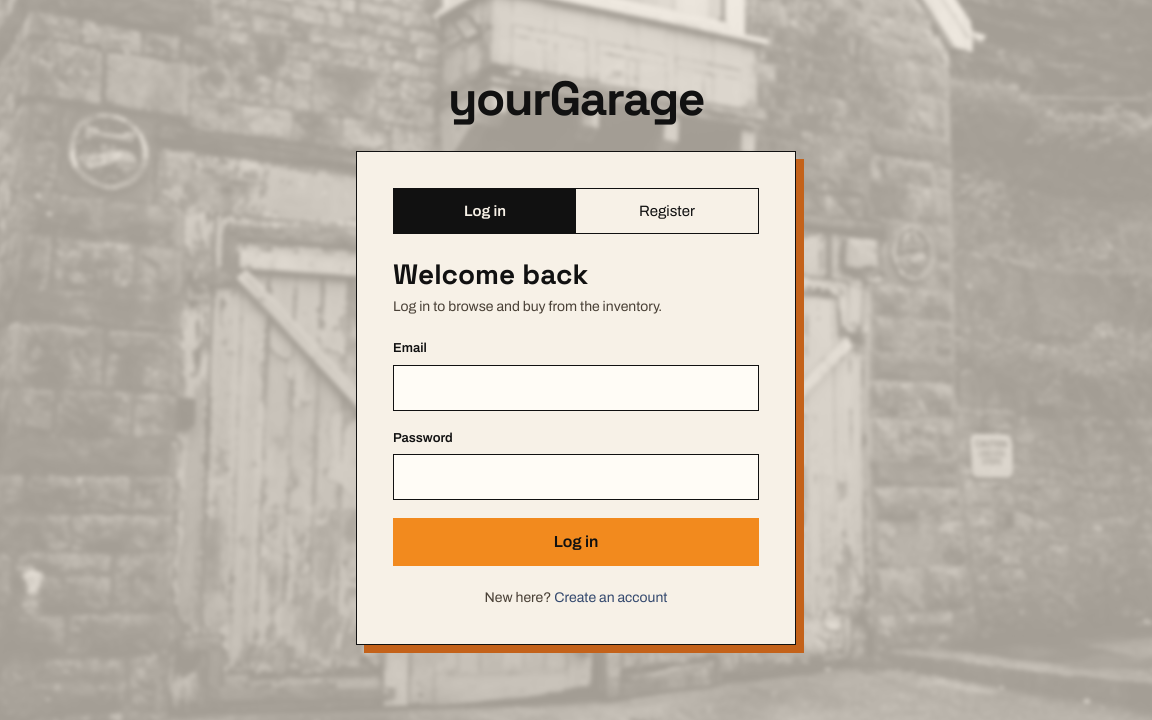
Test: LoginPage › shows the server’s error in a banner, keeps the email and lets the user try again
In the field labelled "Email": (576, 388) [393,365,759,411], type "priya.sharma@gmail.com"
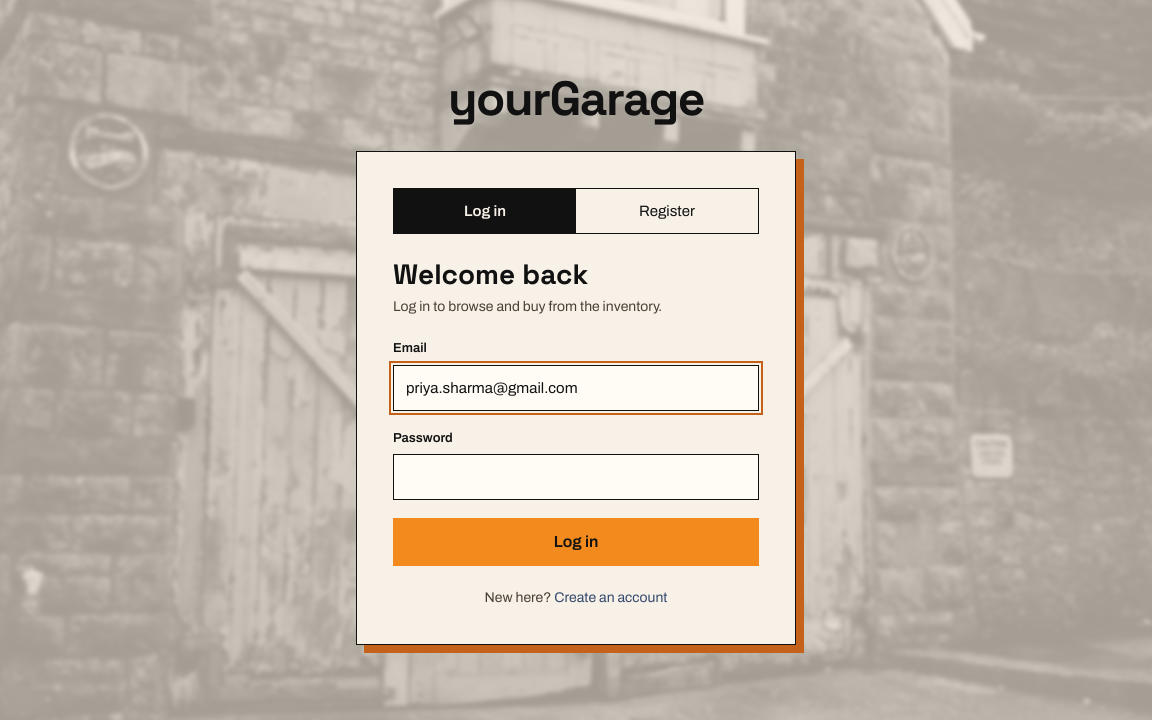
In the password field labelled "Password": (576, 477) [393,454,759,500], type "WrongPass123"
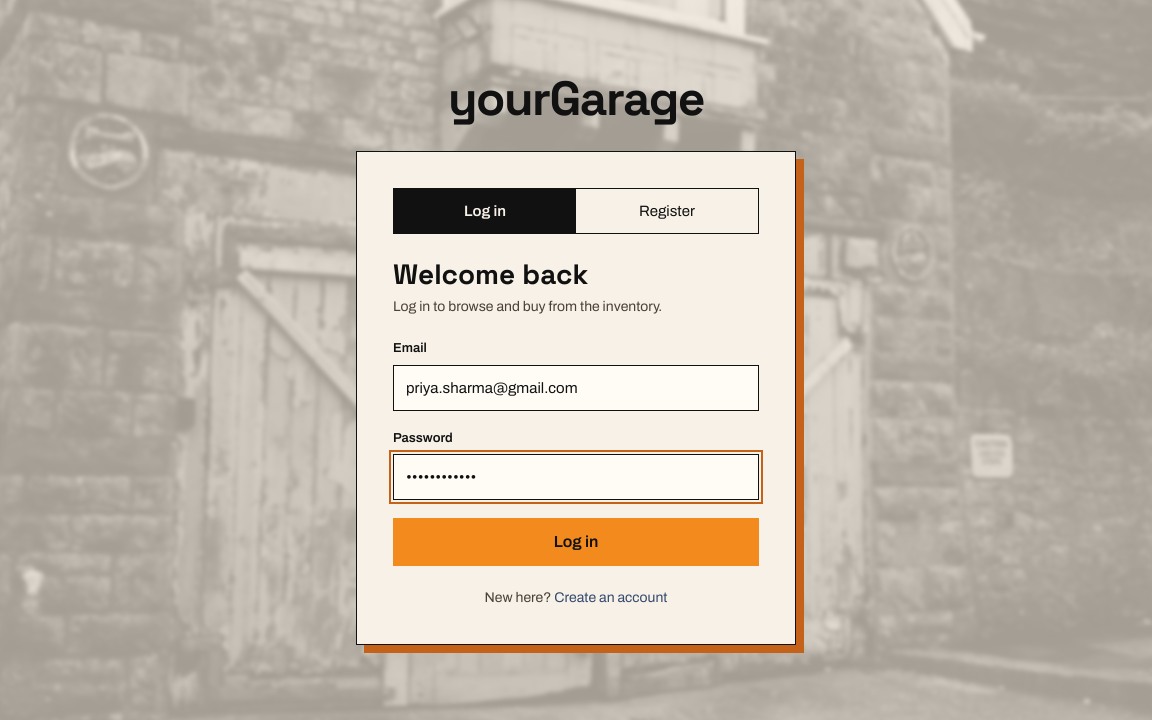
Click the button "Log in": (576, 542) [393,518,759,566]
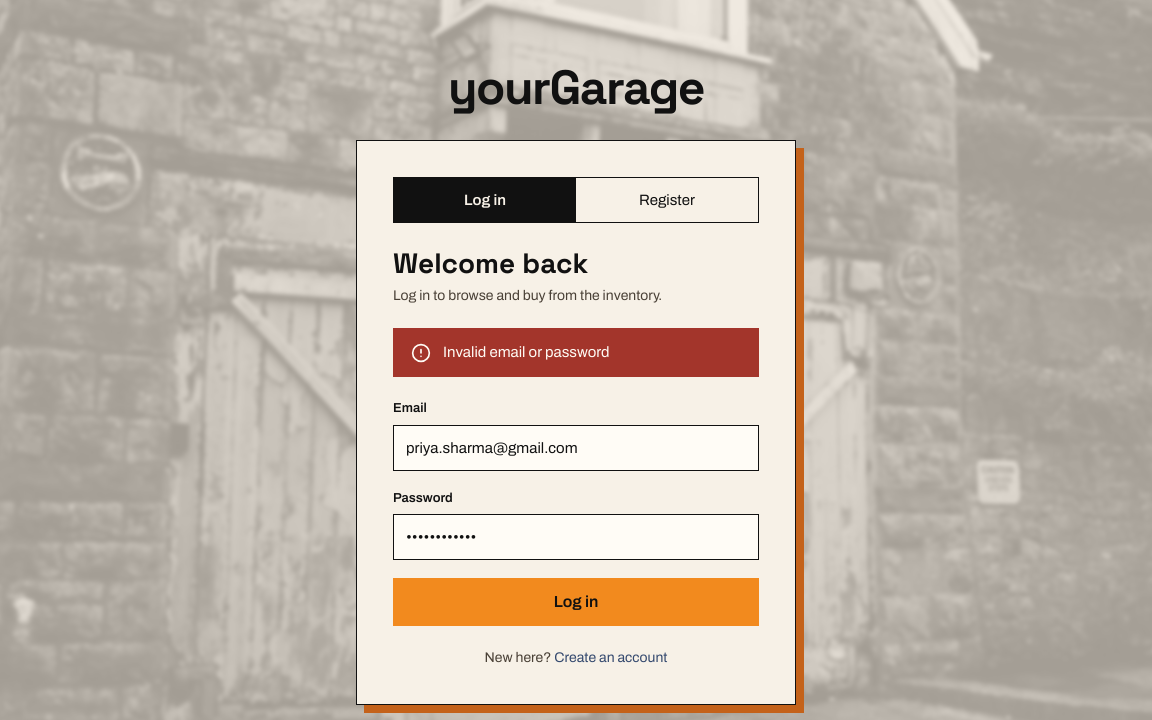
Expected: the button "Log in" is enabled, [393,578,759,626]
Result: the message reads "Invalid email or password" at [443,344,610,360]
